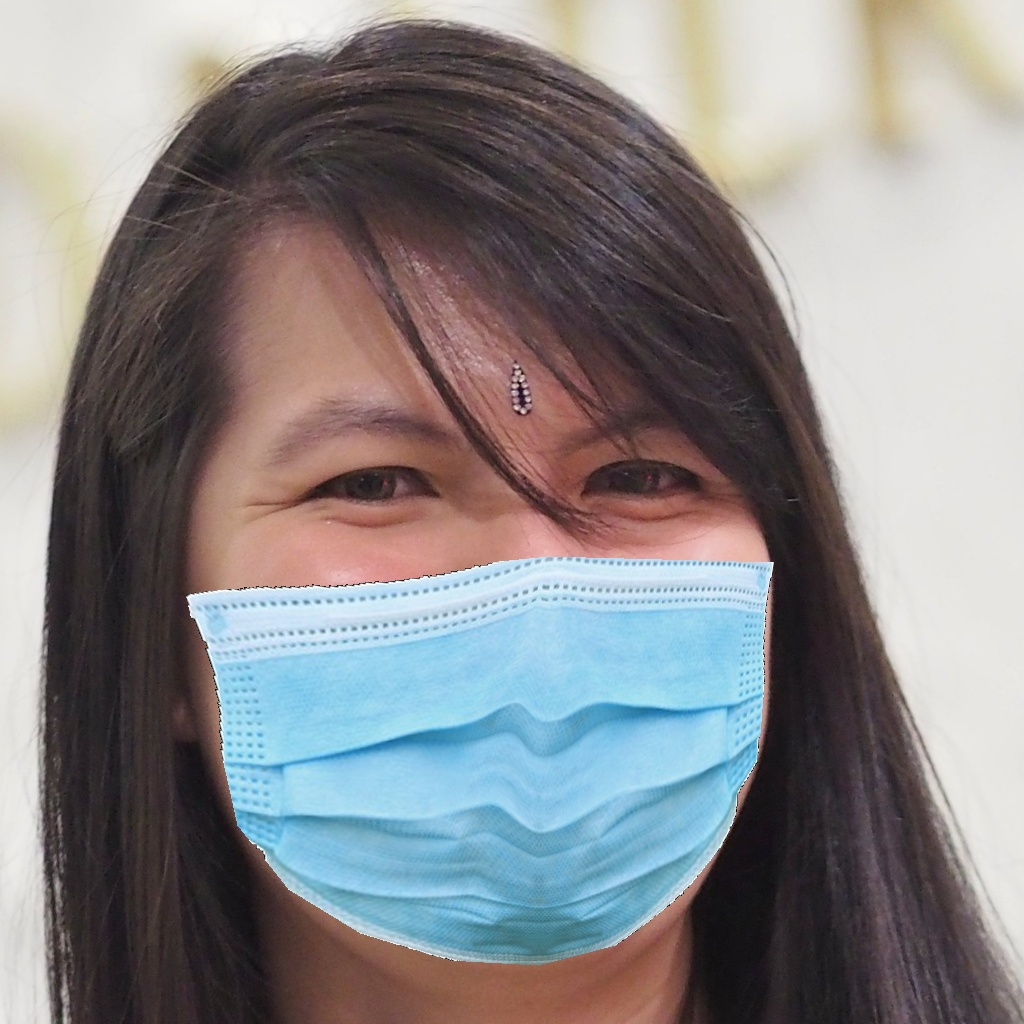with_mask: (188, 382, 783, 971)
